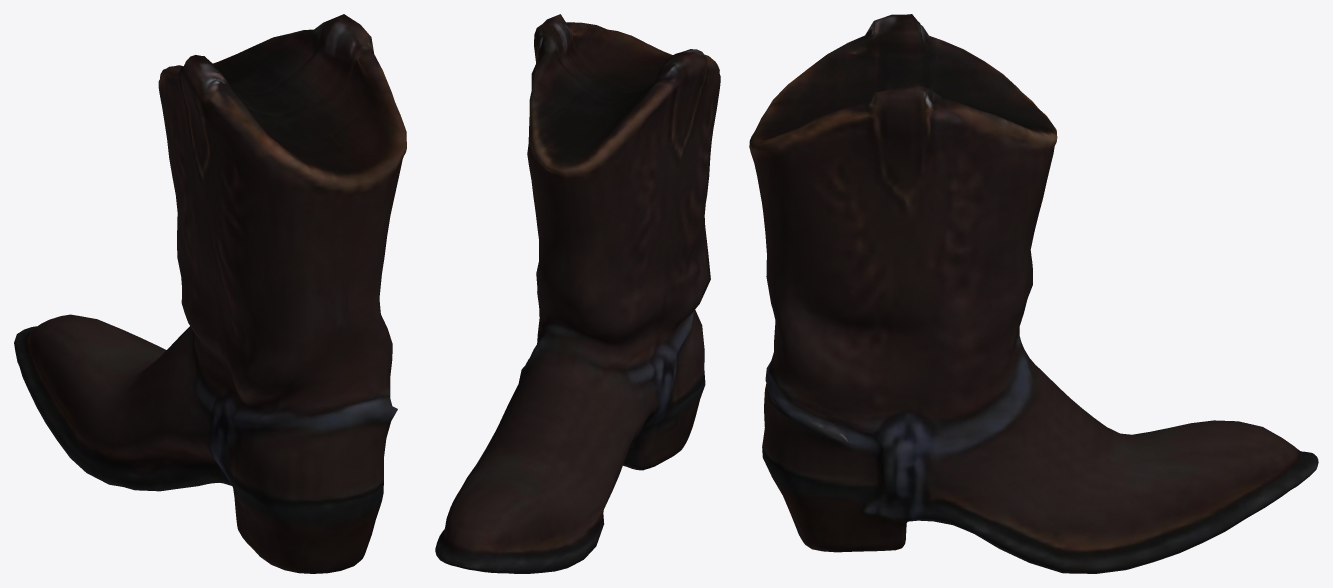
The model's file is boot1.glb.
3 renders of one model, left to right at view 1: azimuth 30°, elevation 25°; view 2: azimuth 150°, elevation 25°; view 3: azimuth 270°, elevation 25°, orthographic. The views are drawn at different scales.
Visible parts, largest first — view 1: mesh; view 2: mesh; view 3: mesh.
Part boxes in pixels (<box>): mesh: <box>14,14,406,573</box>; mesh: <box>435,14,720,573</box>; mesh: <box>749,14,1318,573</box>.
Size of the model in its own units: 0.3546 by 0.9404 by 0.9955.
1 material, 1 textured.
